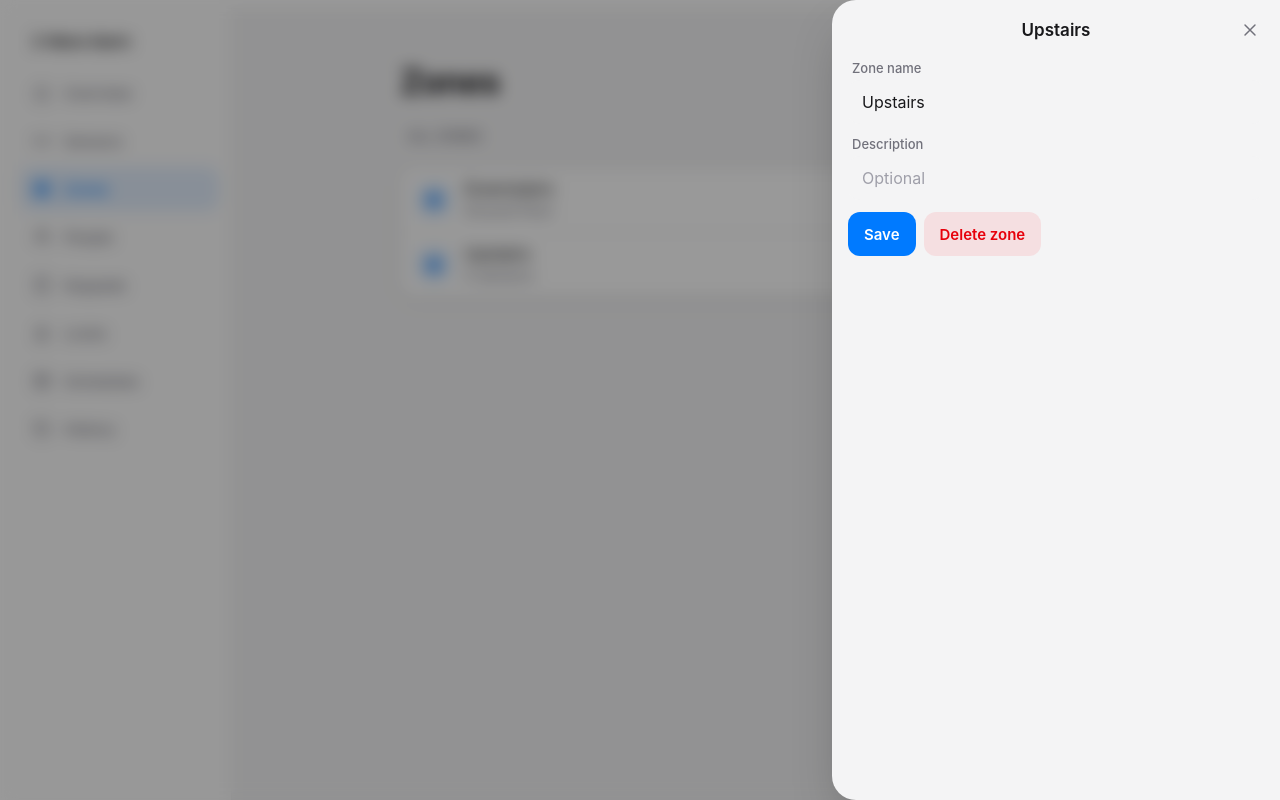
Test case: zones › shows the service's reason when a delete is refused, and keeps the sheet open
Click the button "Delete zone" at [982, 234], box [924, 212, 1041, 256]
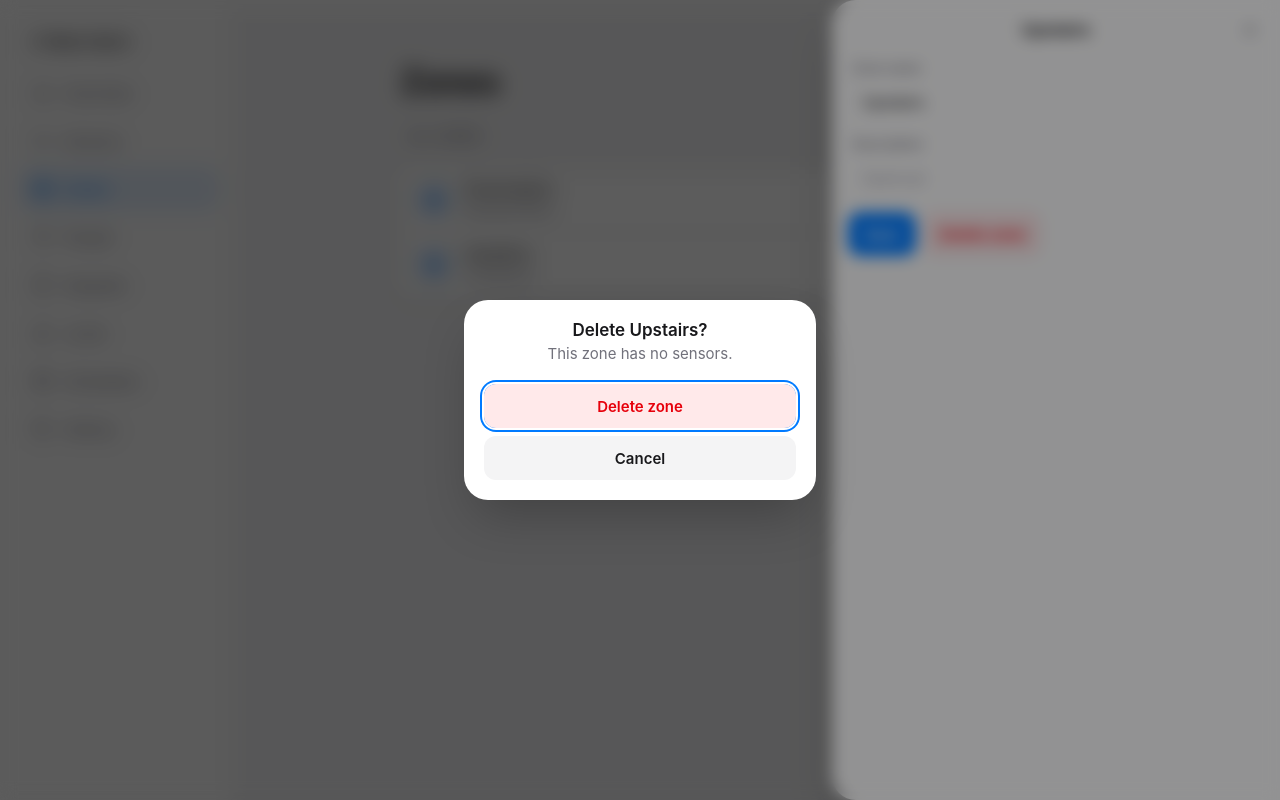
Click the button "Delete zone" at [640, 406], box [484, 384, 796, 428]
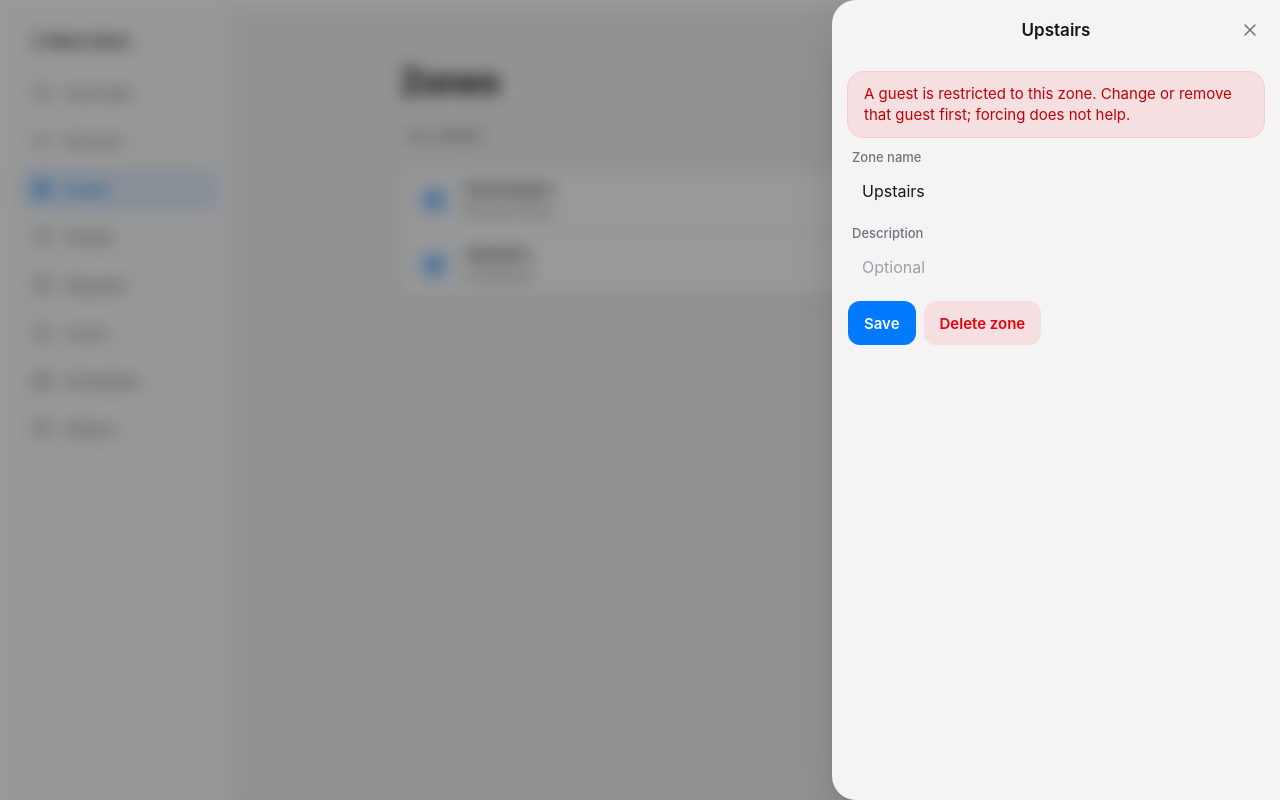
Expected: the field labelled "Zone name" is shown, [848, 169, 1264, 213]
Result: the message shows "forcing does not help" at [864, 84, 1232, 124]
